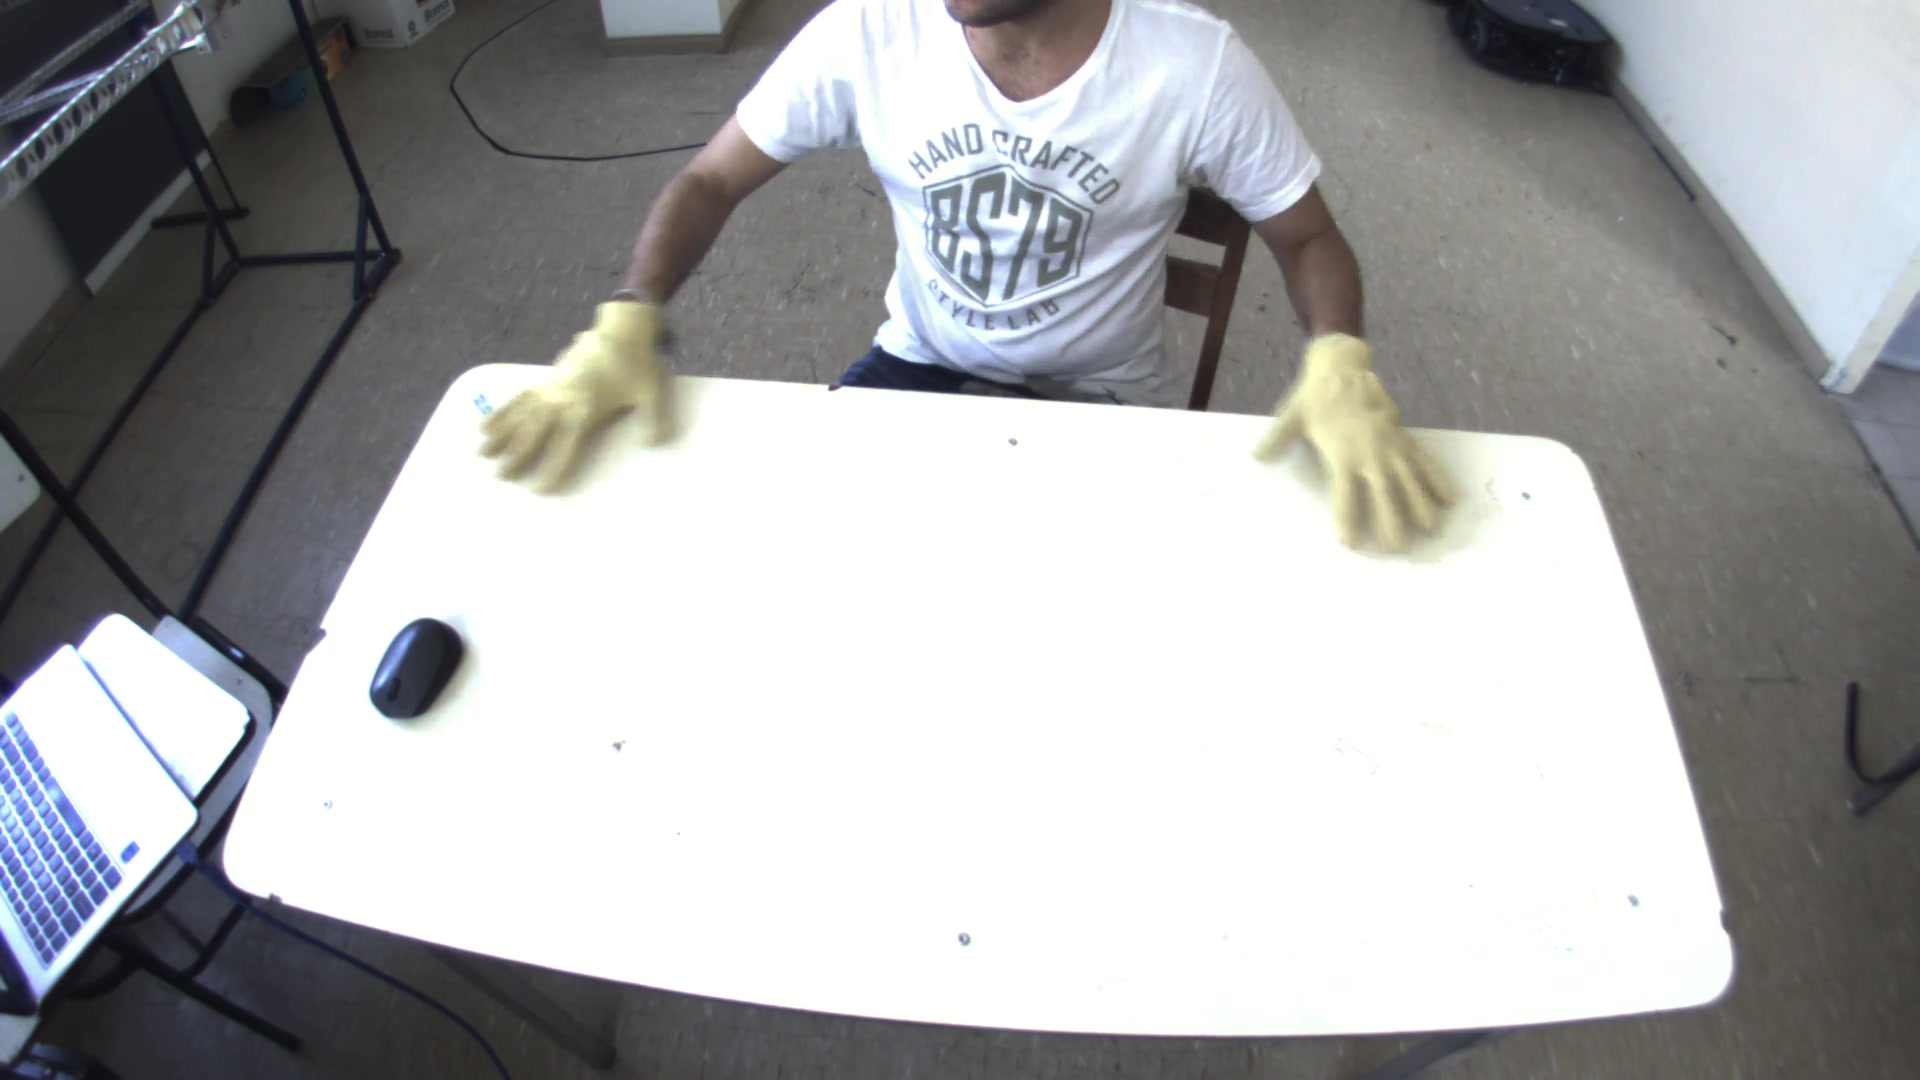hand: (1255, 324, 1476, 572), (455, 284, 682, 504)
